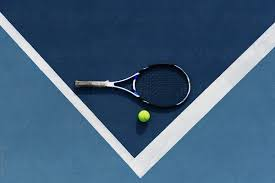tennis_ball: (137, 109, 151, 123)
